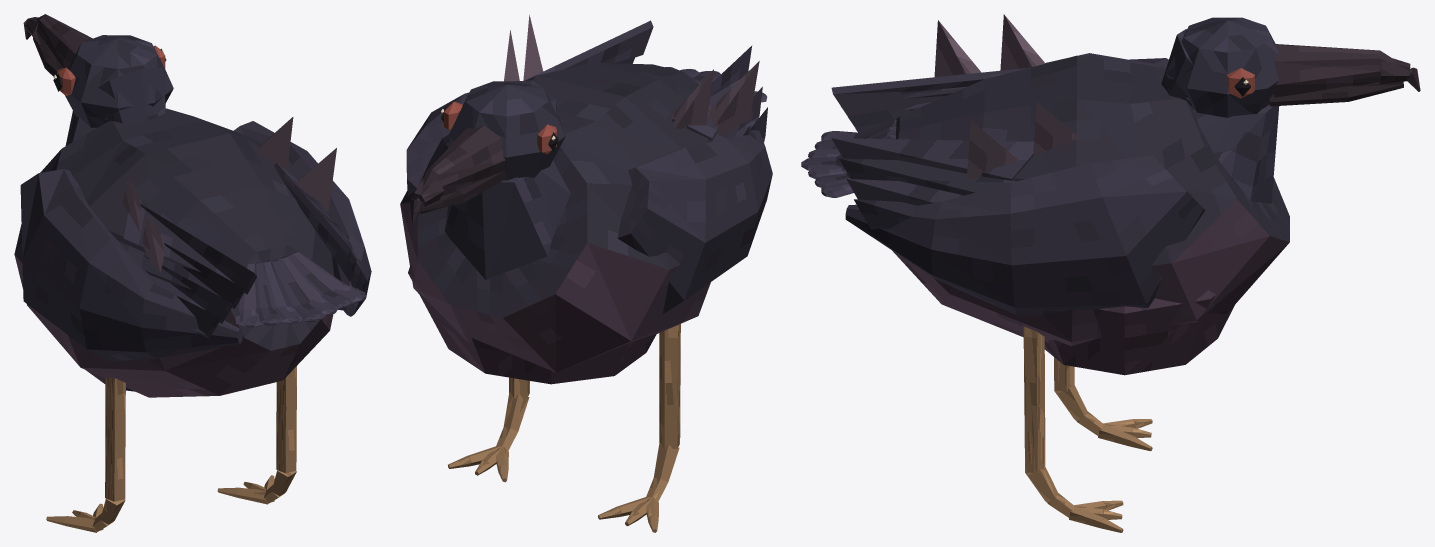
The model's file is mon_crow_mutant_small.glb.
The picture shows the model from 3 angles, left to right: view 1: azimuth 30°, elevation 25°; view 2: azimuth 150°, elevation 25°; view 3: azimuth 270°, elevation 25°; orthographic projection. The views are drawn at different scales.
Parts seen in each view (by area): view 1: closed_body; view 2: closed_body; view 3: closed_body.
Part boxes in pixels (bbox=[...]): closed_body: bbox=[14, 14, 371, 532]; closed_body: bbox=[400, 14, 772, 532]; closed_body: bbox=[801, 14, 1420, 532].
Bounding box in the file's own units: 0.2145 × 0.3107 × 0.3801.
1 material, 1 textured.
